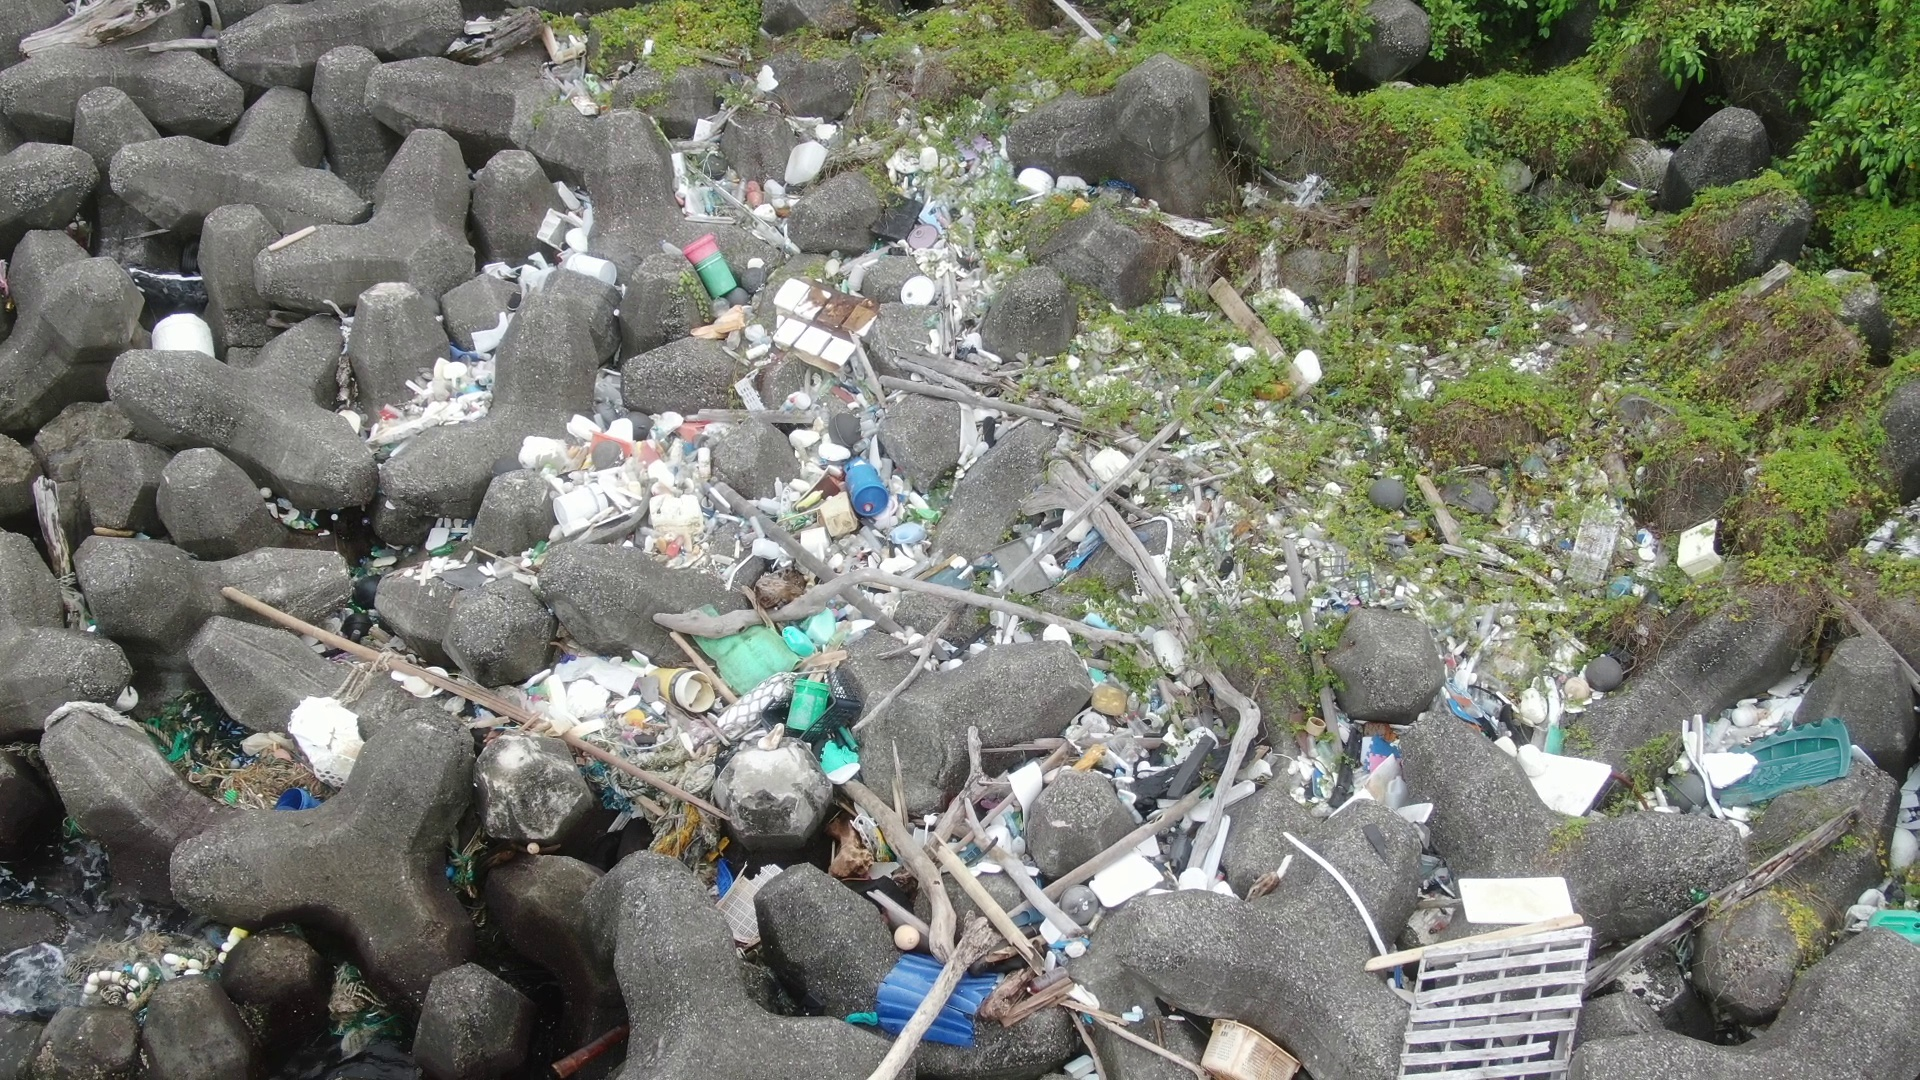garbage: (644, 827, 1298, 1080), (675, 65, 1098, 385), (418, 611, 920, 827), (516, 390, 959, 629), (975, 435, 1220, 775), (359, 142, 620, 460), (1362, 836, 1604, 1080), (146, 674, 386, 822), (1448, 661, 1625, 831), (1654, 692, 1859, 818), (241, 477, 487, 570), (1240, 713, 1428, 814), (1568, 495, 1730, 604), (61, 926, 266, 1011), (311, 951, 398, 1067), (1226, 334, 1335, 411), (439, 818, 506, 922), (138, 305, 227, 369), (1845, 881, 1920, 949)
